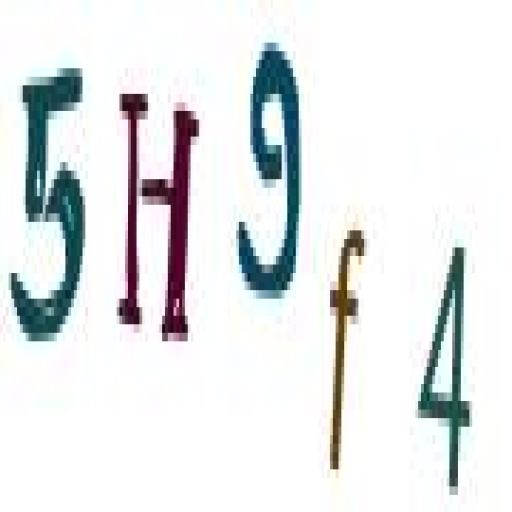4: (412, 222, 477, 505)
5: (9, 51, 90, 354)
9: (233, 22, 305, 320)
H: (113, 78, 204, 359)
f: (324, 202, 370, 503)
